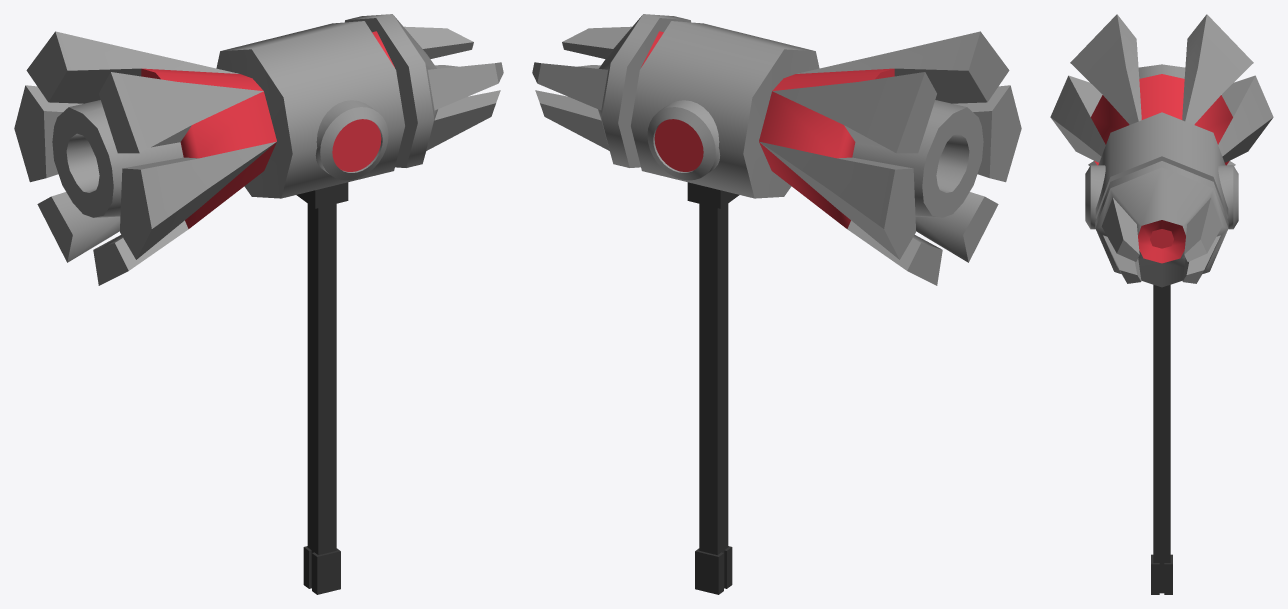
Rendered from EngineHammer.fbx.
The picture shows the model from 3 angles, left to right: view 1: azimuth 30°, elevation 25°; view 2: azimuth 150°, elevation 25°; view 3: azimuth 270°, elevation 25°; orthographic projection. The views are drawn at different scales.
Parts seen in each view (by area): view 1: EngineHammer; view 2: EngineHammer; view 3: EngineHammer.
Part boxes in pixels (x1,y1,x2,y2): EngineHammer: (14,14,503,594); EngineHammer: (532,14,1021,594); EngineHammer: (1050,14,1273,594).
Size of the model in its own units: 2.96 by 4.15 by 1.74.
